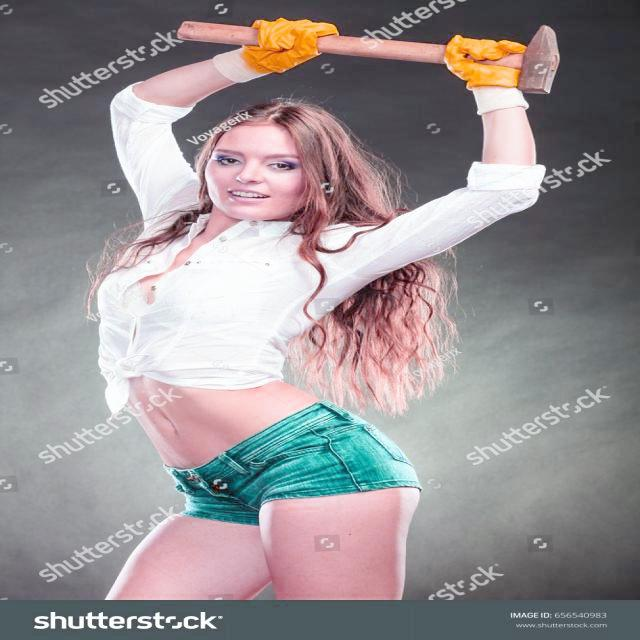hammer: (156, 8, 575, 104)
